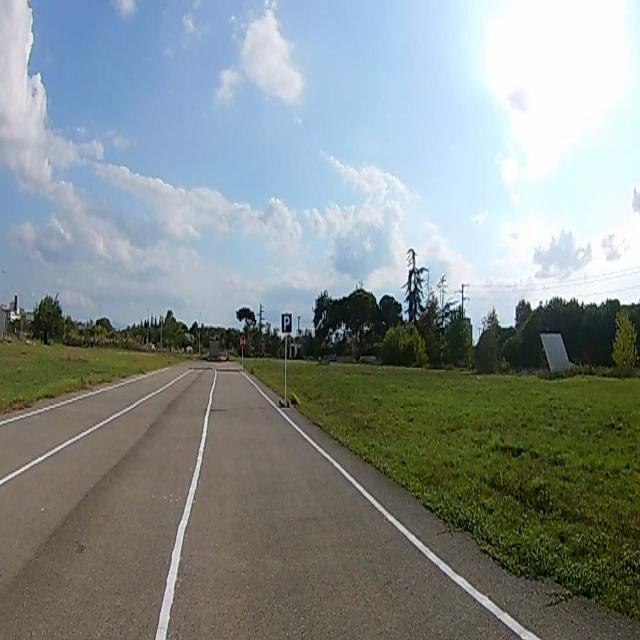park: (282, 314, 292, 332)
